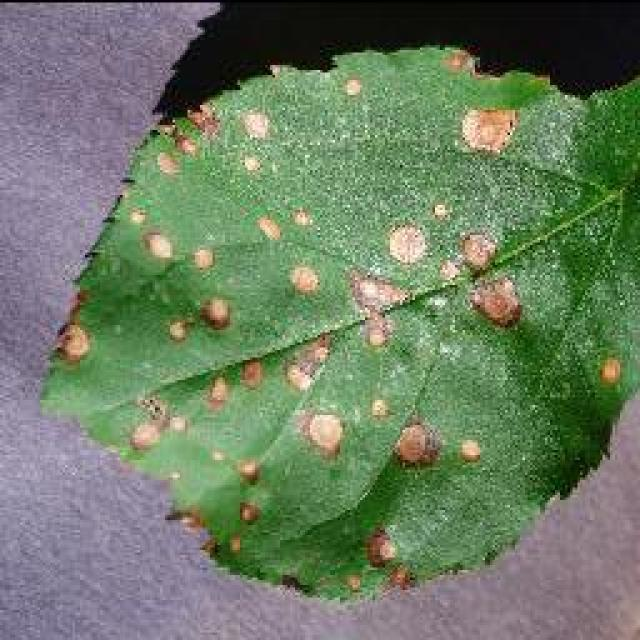Black_rot: (35, 35, 637, 605)
